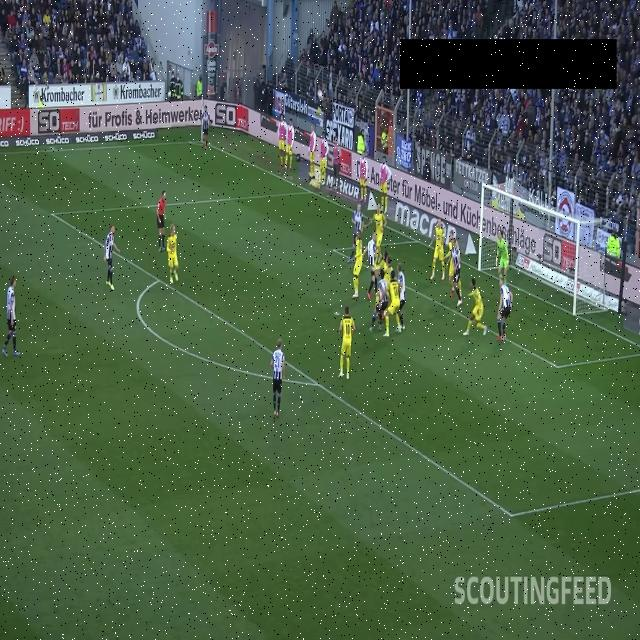Ball: (317, 88, 323, 102)
GoalKeeper: (495, 230, 508, 287)
Referee: (154, 189, 168, 255)
TEAM 1: (462, 278, 487, 340), (339, 306, 355, 381), (383, 272, 401, 338), (430, 219, 445, 285), (446, 228, 460, 297), (373, 249, 389, 303), (352, 228, 364, 299), (167, 223, 179, 286), (371, 206, 386, 254), (384, 258, 396, 302)
TEAM 2: (2, 278, 20, 360), (270, 339, 286, 420), (444, 239, 462, 307), (368, 270, 387, 333), (362, 231, 378, 300), (496, 278, 512, 342), (104, 227, 119, 292), (394, 263, 407, 331), (348, 204, 362, 263), (201, 106, 212, 150)
